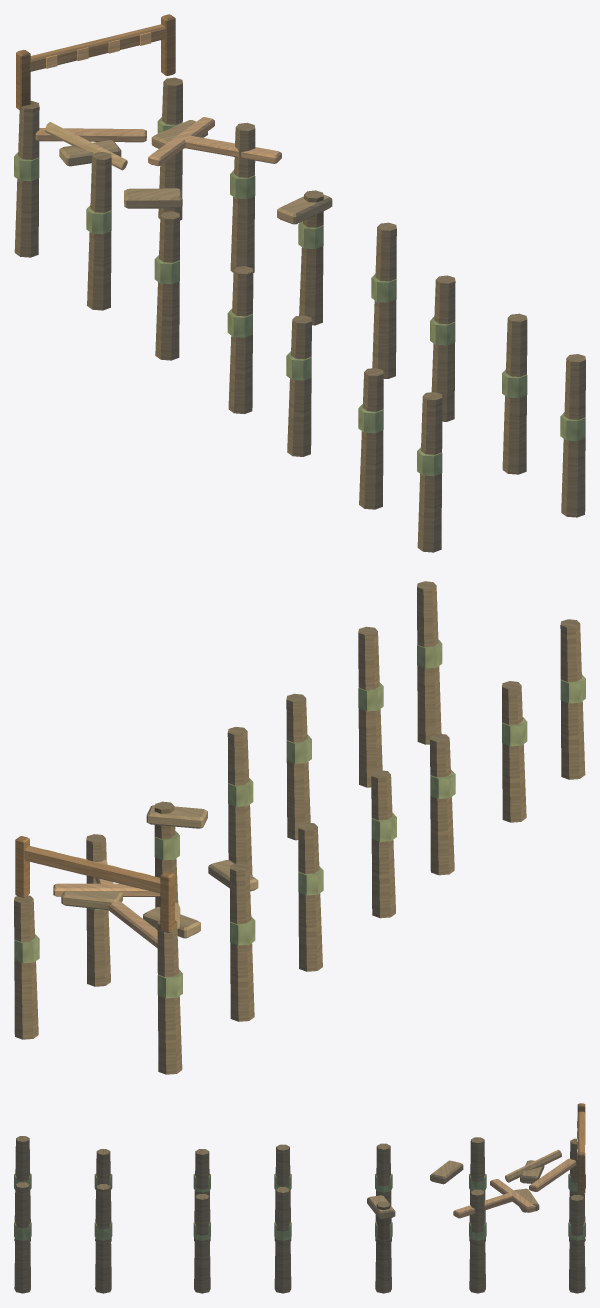
Rendered from pier_damaged.glb.
The picture shows the model from 3 angles, top to bottom: view 1: azimuth 30°, elevation 25°; view 2: azimuth 150°, elevation 25°; view 3: azimuth 270°, elevation 25°; orthographic projection. The views are drawn at different scales.
Parts seen in each view (by area): view 1: Fischersteg · damaged; view 2: Fischersteg · damaged; view 3: Fischersteg · damaged.
Boxes of the visible parts, x1,y1,x2,y2 form: Fischersteg · damaged: (14, 14, 585, 552); Fischersteg · damaged: (14, 581, 585, 1074); Fischersteg · damaged: (14, 1103, 585, 1293).
Size of the model in its own units: 2.34 by 2.49 by 9.43.
2 materials, 2 textured.
